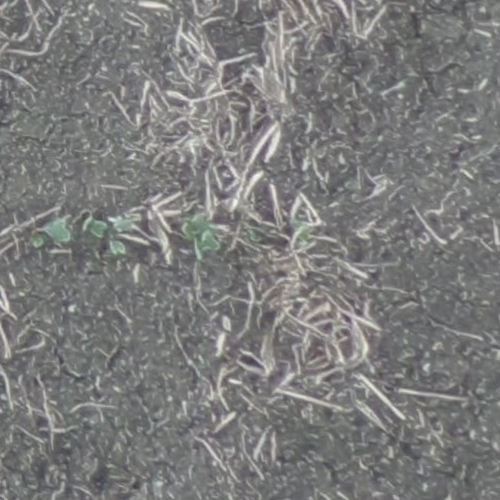plant: (90, 215, 135, 255), (181, 214, 220, 257), (33, 218, 69, 249), (291, 220, 312, 243)
